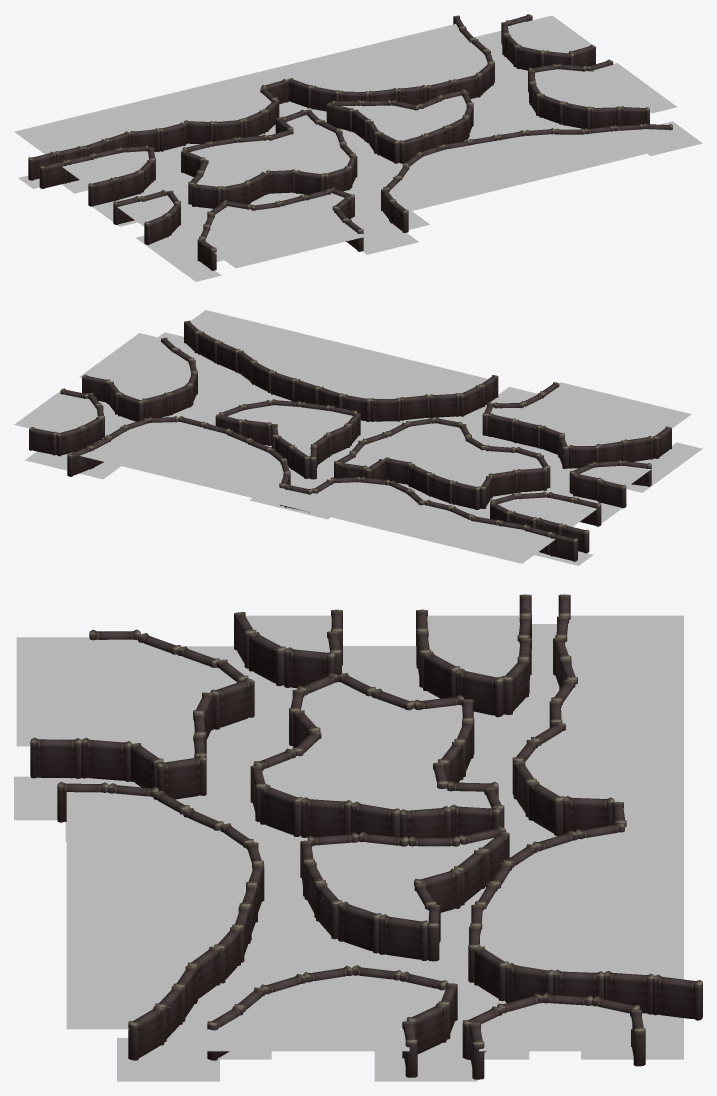
Rendered from S_Level.fbx.
3 views of the same model, one above another, from view 1: azimuth 30°, elevation 25°; view 2: azimuth 150°, elevation 25°; view 3: azimuth 270°, elevation 25° (orthographic). The views are drawn at different scales.
Visible parts, largest first — view 1: Floor, S_Lvl_Walls; view 2: Floor, S_Lvl_Walls; view 3: Floor, S_Lvl_Walls.
Part boxes in pixels (x1,y1,x2,y2): Floor: (14, 15, 702, 281); S_Lvl_Walls: (28, 14, 672, 270); Floor: (14, 310, 702, 565); S_Lvl_Walls: (29, 320, 671, 561); Floor: (14, 615, 683, 1081); S_Lvl_Walls: (30, 594, 702, 1079).
Size of the model in its own units: 4200 by 158 by 2674.
